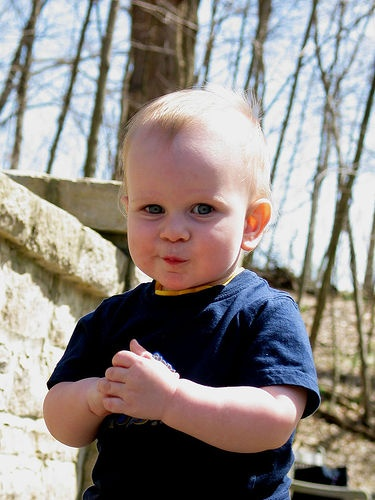head: (121, 87, 273, 293)
person: (27, 82, 348, 498)
